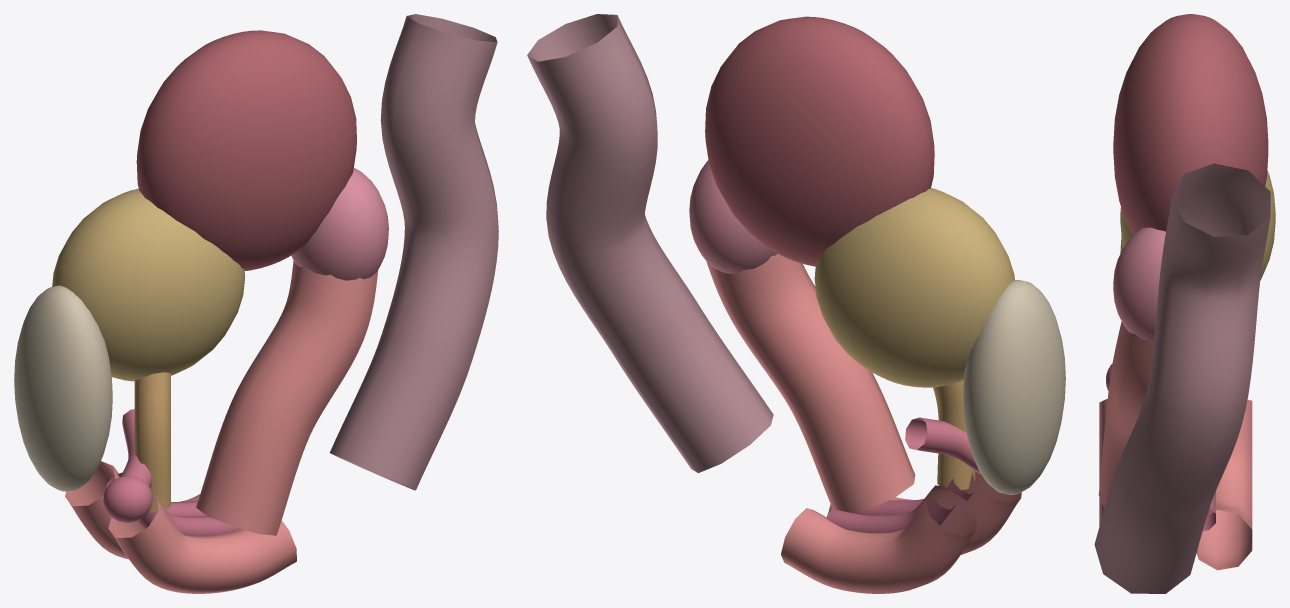
The model's file is pelvic-section.glb.
The picture shows the model from 3 angles, left to right: view 1: azimuth 30°, elevation 25°; view 2: azimuth 150°, elevation 25°; view 3: azimuth 270°, elevation 25°; orthographic projection. The views are drawn at different scales.
Parts seen in each view (by area): view 1: rectum, uterine_body, bladder, vagina, pubic_symphysis, labia_majora, cervix, urethra, clitoris, labia_minora; view 2: rectum, uterine_body, bladder, vagina, pubic_symphysis, labia_majora, cervix, labia_minora, urethra, clitoris; view 3: rectum, uterine_body, labia_majora, vagina, cervix, bladder.
Boxes of the visible parts, box(x1,y1,x2,y2) form: rectum: box(329, 14, 498, 490); uterine_body: box(136, 30, 356, 270); bladder: box(52, 188, 245, 381); vagina: box(196, 261, 378, 535); pubic_symphysis: box(14, 285, 112, 491); labia_majora: box(65, 461, 296, 593); cervix: box(291, 168, 388, 280); urethra: box(134, 372, 170, 512); clitoris: box(103, 409, 152, 522); labia_minora: box(106, 472, 239, 536); rectum: box(527, 14, 773, 473); uterine_body: box(705, 16, 934, 266); bladder: box(814, 188, 1014, 387); vagina: box(706, 254, 915, 512); pubic_symphysis: box(963, 280, 1065, 494); labia_majora: box(781, 471, 1021, 593); cervix: box(689, 160, 777, 273); labia_minora: box(826, 479, 976, 533); urethra: box(933, 379, 975, 489); clitoris: box(905, 417, 980, 473); rectum: box(1094, 163, 1270, 593); uterine_body: box(1113, 14, 1268, 235); labia_majora: box(1099, 399, 1252, 570); vagina: box(1098, 321, 1153, 507); cervix: box(1113, 227, 1165, 341); bladder: box(1120, 170, 1275, 280).
Size of the model in its own units: 1.66 by 1.71 by 0.5101.
